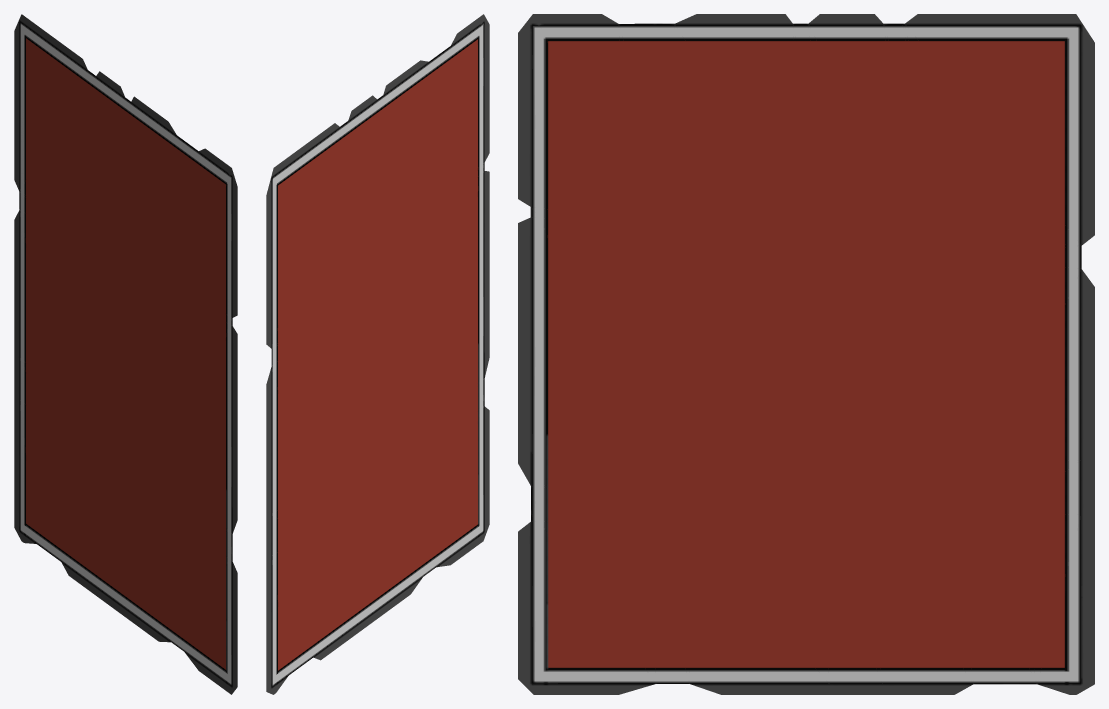
The model's file is Greencard.fbx.
3 views of the same model, side by side, from view 1: azimuth 30°, elevation 25°; view 2: azimuth 150°, elevation 25°; view 3: azimuth 270°, elevation 25° (orthographic). The views are drawn at different scales.
Parts seen in each view (by area): view 1: Redcard; view 2: Redcard; view 3: Redcard.
Boxes of the visible parts, left/top/right/bottom form: Redcard: left=14, top=14, right=237, bottom=694; Redcard: left=266, top=14, right=489, bottom=694; Redcard: left=518, top=14, right=1094, bottom=694.
Size of the model in its own units: 9.88e-06 by 100 by 76.75.
